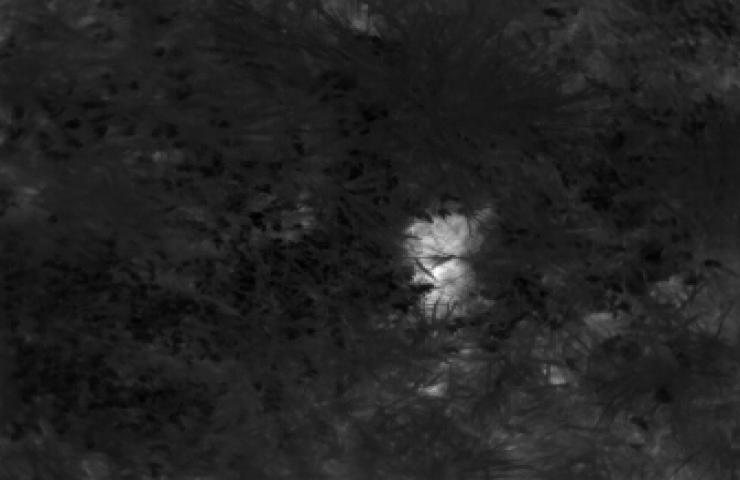landmines: (397, 205, 501, 325)
